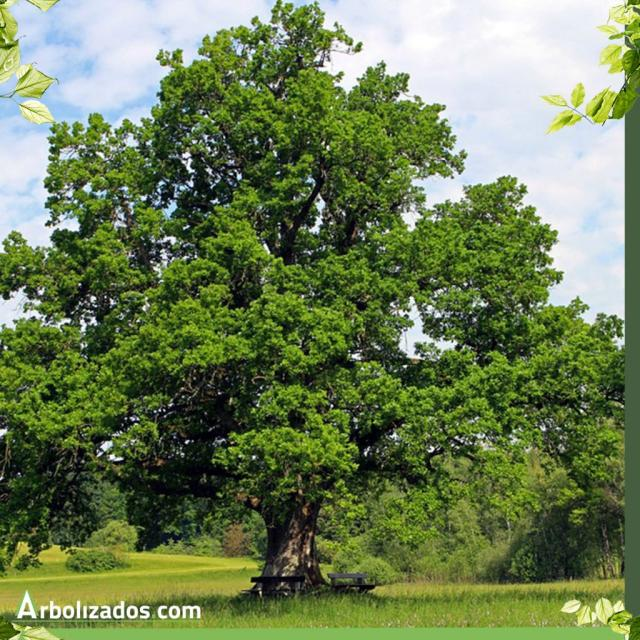roble: (0, 14, 621, 605)
